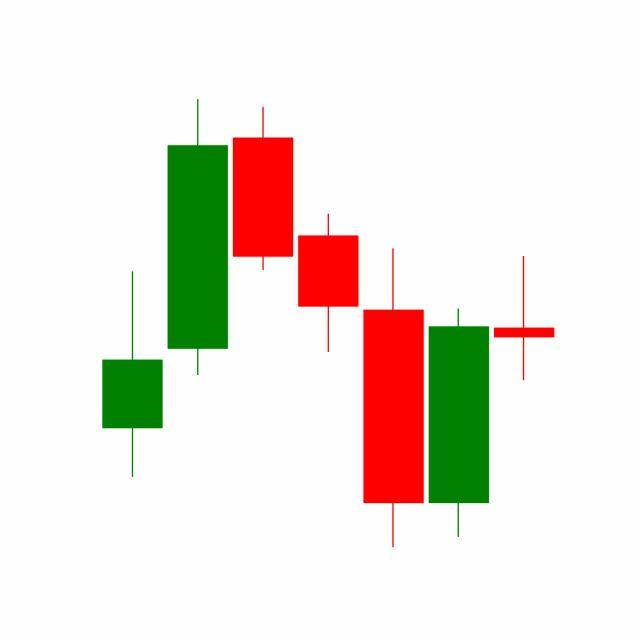Hikkake Pattern: (229, 102, 555, 548)
